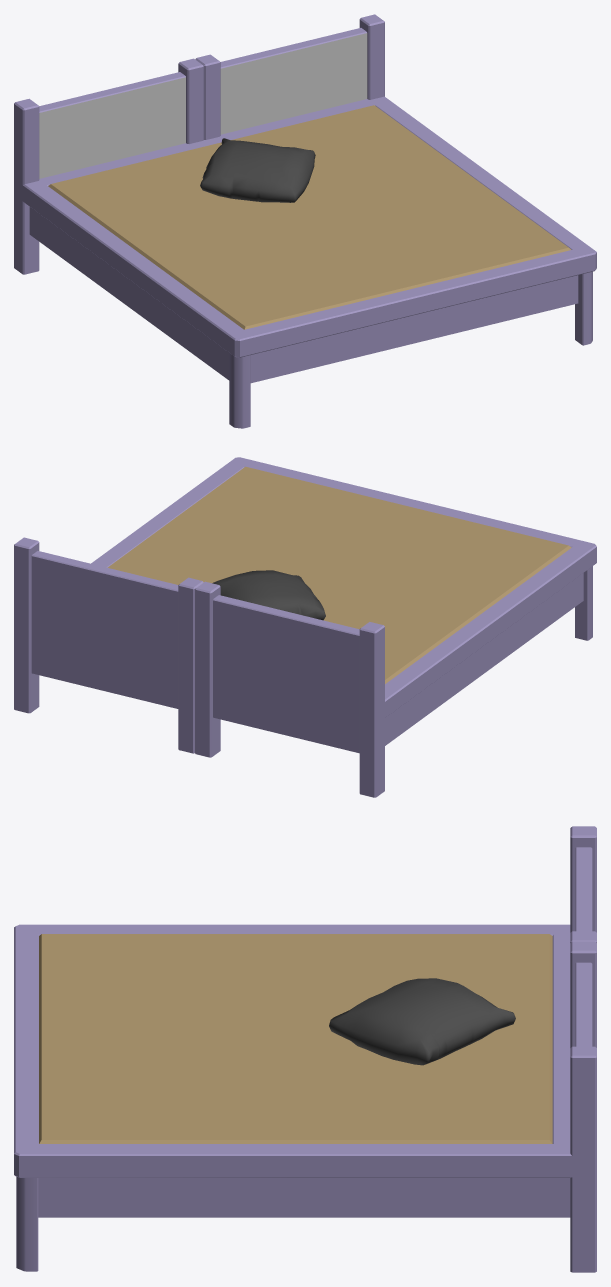
The model's file is LBBD9459.FBX.
The picture shows the model from 3 angles, top to bottom: view 1: azimuth 30°, elevation 25°; view 2: azimuth 150°, elevation 25°; view 3: azimuth 270°, elevation 25°; orthographic projection. The views are drawn at different scales.
Parts seen in each view (by area): view 1: LBBD9459; view 2: LBBD9459; view 3: LBBD9459.
Part boxes in pixels (x1=…): LBBD9459: x1=14, y1=14, x2=596, y2=428; LBBD9459: x1=14, y1=457, x2=596, y2=797; LBBD9459: x1=14, y1=826, x2=596, y2=1272.
Bounding box in the file's own units: 206 × 220 × 90.
